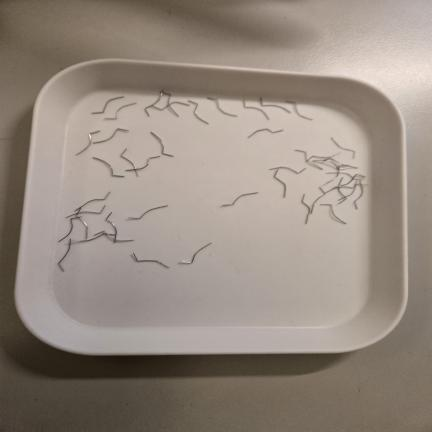probe: (178, 242, 211, 264), (93, 157, 124, 177), (207, 97, 237, 117), (91, 96, 124, 114), (105, 102, 137, 120), (150, 132, 173, 157), (243, 99, 269, 120), (133, 253, 169, 268), (221, 192, 258, 206), (286, 101, 313, 120), (331, 137, 355, 158), (188, 100, 209, 124), (260, 97, 291, 113), (248, 128, 283, 138), (142, 205, 168, 216), (128, 216, 142, 220)
